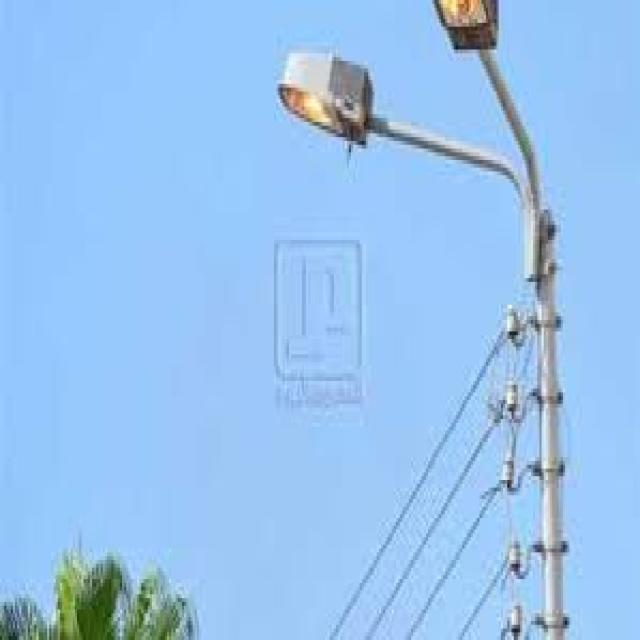Street Light: (276, 4, 563, 640)
